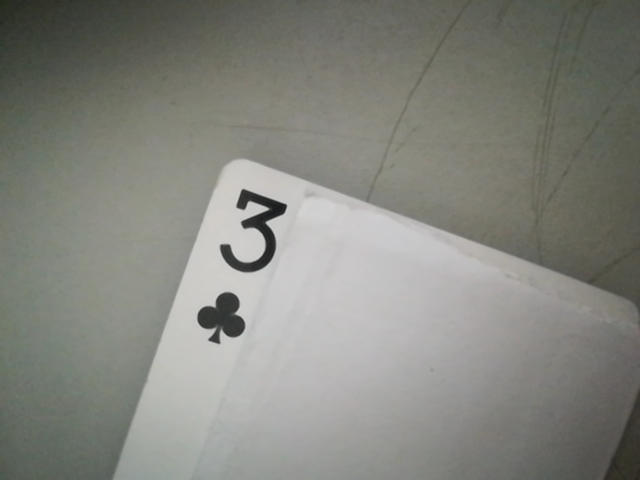mh 3: (190, 176, 299, 347)
